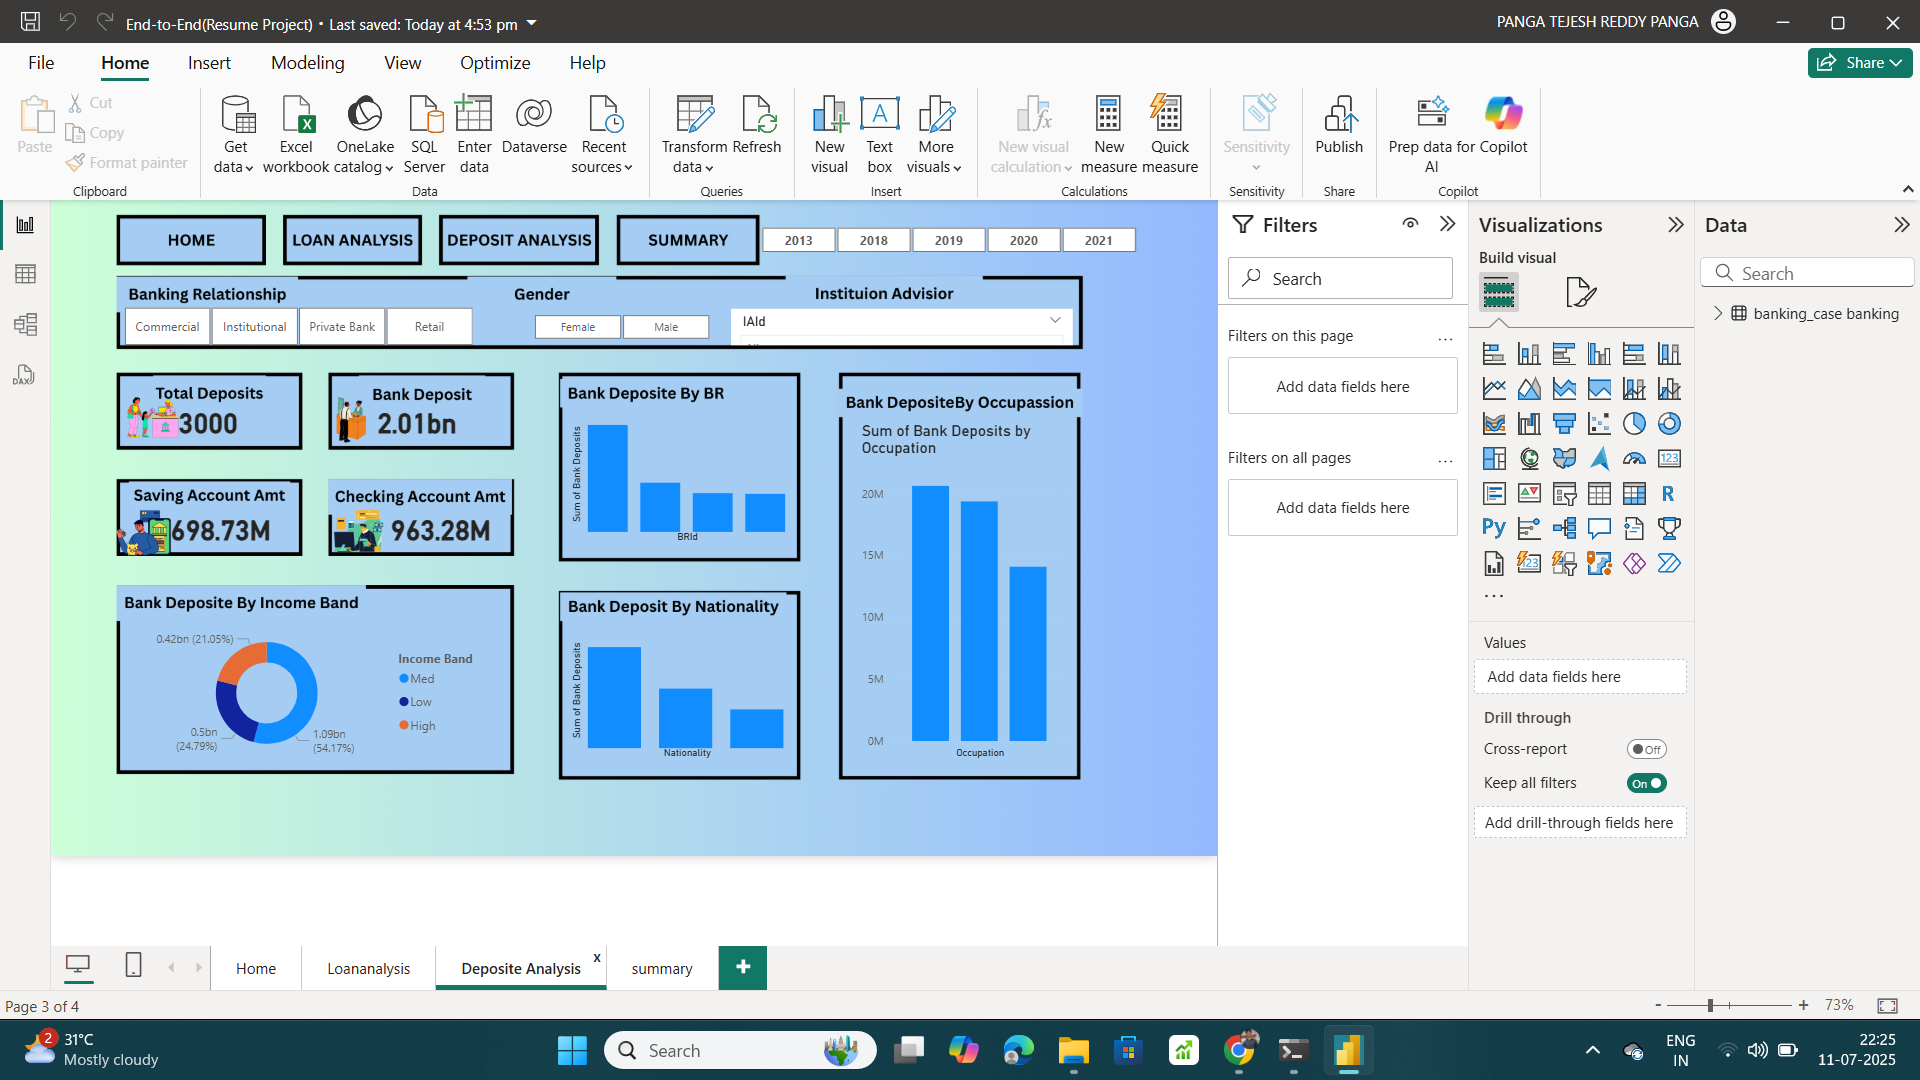

What the dashboard file says about the page in this screenshot:
{"tool":"powerbi","page":{"name":"Deposite Analysis","canvas":[1280,720],"ordinal":2},"visuals":[{"type":"slicer","fields":{"Values":["banking_case banking.year of joining"]},"box":[755,23.3,460,40],"z":0},{"type":"actionButton","box":[78.3,23.3,148.3,40],"z":1000},{"type":"actionButton","box":[258.3,23.3,143.3,40],"z":2000},{"type":"actionButton","box":[428.3,23.3,168.3,40],"z":3000},{"type":"actionButton","box":[626.7,23.3,145,40],"z":4000},{"type":"card","fields":{"Values":["CountNonNull(banking_case banking.Bank Deposits)"]},"box":[88.3,223.3,170,38.3],"z":5000},{"type":"card","fields":{"Values":["Sum(banking_case banking.Bank Deposits)"]},"box":[316.7,223.3,170,38.3],"z":6000},{"type":"card","fields":{"Values":["Sum(banking_case banking.Saving Accounts)"]},"box":[101.7,341.7,170,38.3],"z":7000},{"type":"card","fields":{"Values":["Sum(banking_case banking.Checking Accounts)"]},"box":[343.3,341.7,170,38.3],"z":8000},{"type":"donutChart","fields":{"Category":["banking_case banking.Income Band"],"Y":["Sum(banking_case banking.Bank Deposits)"]},"box":[88.3,463.3,398.3,155],"z":9000},{"type":"columnChart","fields":{"Category":["banking_case banking.BRId"],"Y":["Sum(banking_case banking.Bank Deposits)"]},"box":[566.7,223.3,246.7,156.7],"z":10000},{"type":"columnChart","fields":{"Category":["banking_case banking.Nationality"],"Y":["Sum(banking_case banking.Bank Deposits)"]},"box":[566.7,461.7,246.7,156.7],"z":11000},{"type":"columnChart","fields":{"Category":["banking_case banking.Occupation"],"Y":["Sum(banking_case banking.Bank Deposits)"]},"box":[885,243.3,236.7,375],"z":12000},{"type":"slicer","fields":{"Values":["banking_case banking.BRId"]},"box":[55,111.7,431.7,55],"z":13000},{"type":"slicer","fields":{"Values":["banking_case banking.GenderId"]},"box":[505,120,241.7,40],"z":14000},{"type":"slicer","fields":{"Values":["banking_case banking.IAId"]},"box":[746.7,120,375,40],"z":15000},{"type":"actionButton","box":[258.3,23.3,143.3,40],"z":15001},{"type":"actionButton","box":[626.7,23.3,145,40],"z":15002}]}

Visuals, with their boxes on the page's 1280x720 design canvas (x1, y1, x2, y2). These are canvas units, not pixel positions in the 1920x1080 screenshot, which may show the page scaled, cropped or inside an application window:
slicer - banking_case banking.year of joining: left=755, top=23, right=1215, bottom=63
actionButton: left=78, top=23, right=227, bottom=63
actionButton: left=258, top=23, right=402, bottom=63
actionButton: left=428, top=23, right=597, bottom=63
actionButton: left=627, top=23, right=772, bottom=63
card - CountNonNull(banking_case banking.Bank Deposits): left=88, top=223, right=258, bottom=262
card - Sum(banking_case banking.Bank Deposits): left=317, top=223, right=487, bottom=262
card - Sum(banking_case banking.Saving Accounts): left=102, top=342, right=272, bottom=380
card - Sum(banking_case banking.Checking Accounts): left=343, top=342, right=513, bottom=380
donutChart - banking_case banking.Income Band x Sum(banking_case banking.Bank Deposits): left=88, top=463, right=487, bottom=618
columnChart - banking_case banking.BRId x Sum(banking_case banking.Bank Deposits): left=567, top=223, right=813, bottom=380
columnChart - banking_case banking.Nationality x Sum(banking_case banking.Bank Deposits): left=567, top=462, right=813, bottom=618
columnChart - banking_case banking.Occupation x Sum(banking_case banking.Bank Deposits): left=885, top=243, right=1122, bottom=618
slicer - banking_case banking.BRId: left=55, top=112, right=487, bottom=167
slicer - banking_case banking.GenderId: left=505, top=120, right=747, bottom=160
slicer - banking_case banking.IAId: left=747, top=120, right=1122, bottom=160
actionButton: left=258, top=23, right=402, bottom=63
actionButton: left=627, top=23, right=772, bottom=63
